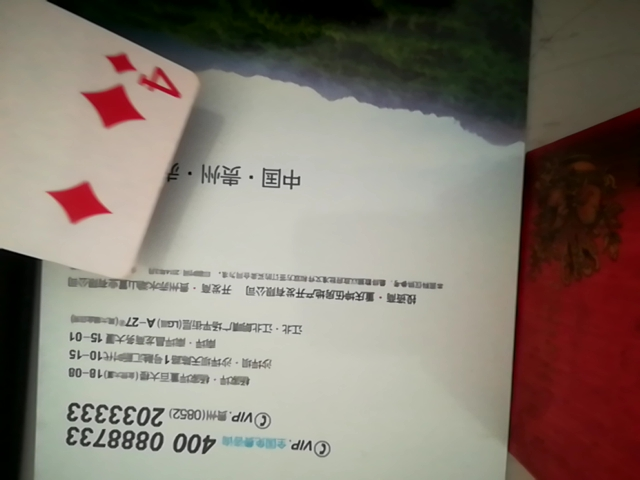fk 4: (0, 0, 204, 287)
